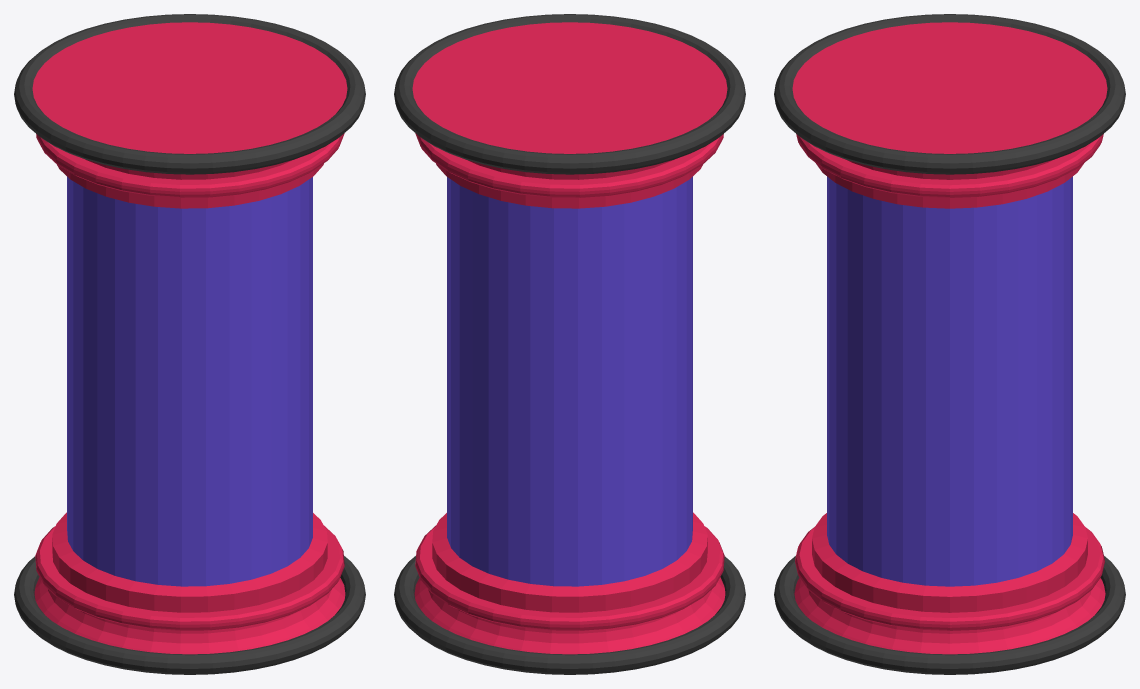
The model's file is canister.fbx.
The picture shows the model from 3 angles, left to right: view 1: azimuth 30°, elevation 25°; view 2: azimuth 150°, elevation 25°; view 3: azimuth 270°, elevation 25°; orthographic projection.
Visible parts, largest first — view 1: fill, base, top support, bottom support; view 2: fill, base, top support, bottom support; view 3: fill, base, top support, bottom support.
Boxes of the visible parts, left/top/right/bottom form: fill: left=67, top=176, right=312, bottom=586; base: left=32, top=22, right=347, bottom=654; top support: left=14, top=14, right=365, bottom=174; bottom support: left=14, top=556, right=365, bottom=674; fill: left=447, top=176, right=692, bottom=586; base: left=412, top=22, right=727, bottom=654; top support: left=394, top=14, right=745, bottom=174; bottom support: left=394, top=556, right=745, bottom=674; fill: left=827, top=176, right=1072, bottom=586; base: left=792, top=22, right=1107, bottom=654; top support: left=774, top=14, right=1125, bottom=174; bottom support: left=774, top=556, right=1125, bottom=674.
Size of the model in its own units: 255 by 415 by 255.
